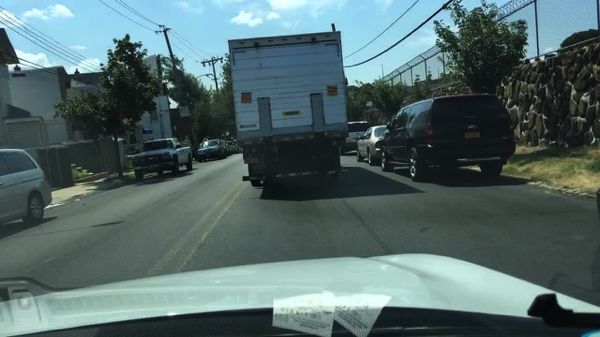car: (375, 93, 515, 182), (0, 148, 53, 227), (353, 125, 386, 165), (339, 121, 369, 157), (195, 138, 222, 162), (226, 139, 237, 153), (220, 138, 229, 155), (237, 147, 242, 155)
traffic sign: (178, 105, 190, 118), (143, 128, 153, 134), (366, 100, 371, 109)
truck: (226, 23, 350, 188), (130, 138, 192, 181)
